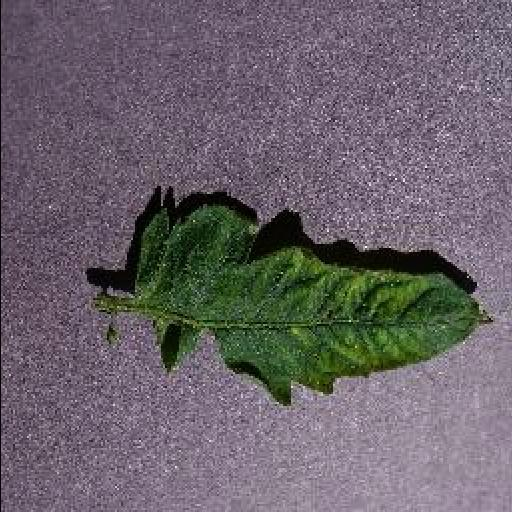disease_tomato: (128, 200, 496, 408)
